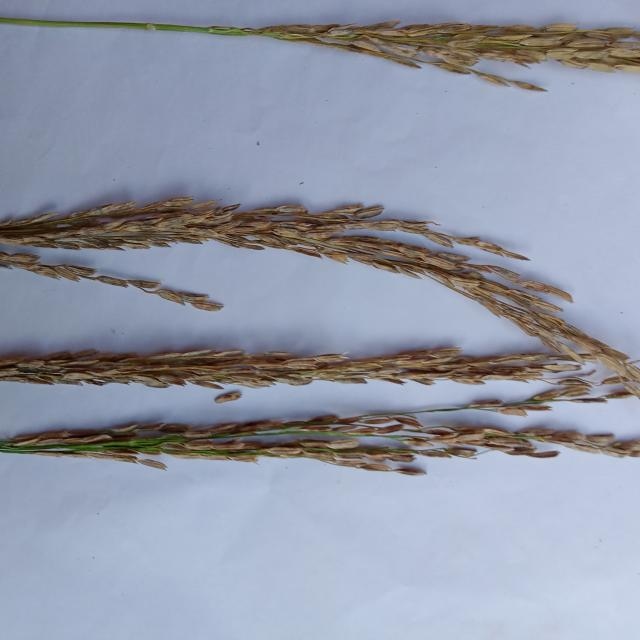Neck_Blast: (0, 207, 629, 366), (0, 419, 527, 468), (0, 351, 540, 387), (246, 22, 639, 70)
